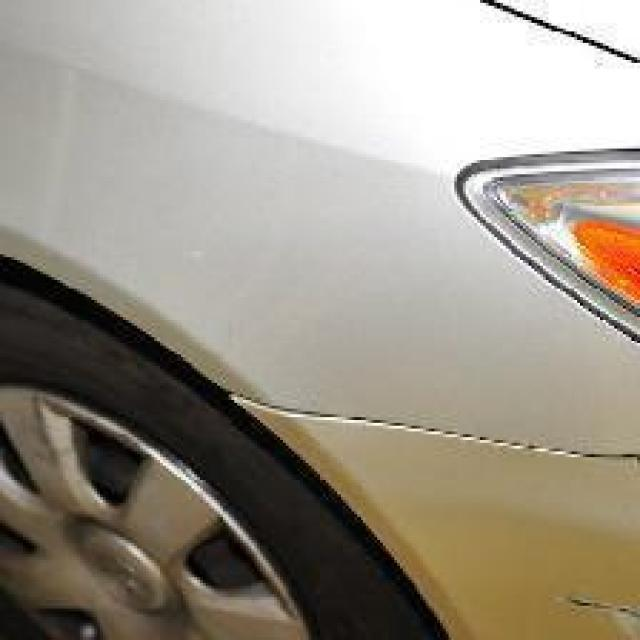damaged: (548, 592, 638, 634)
